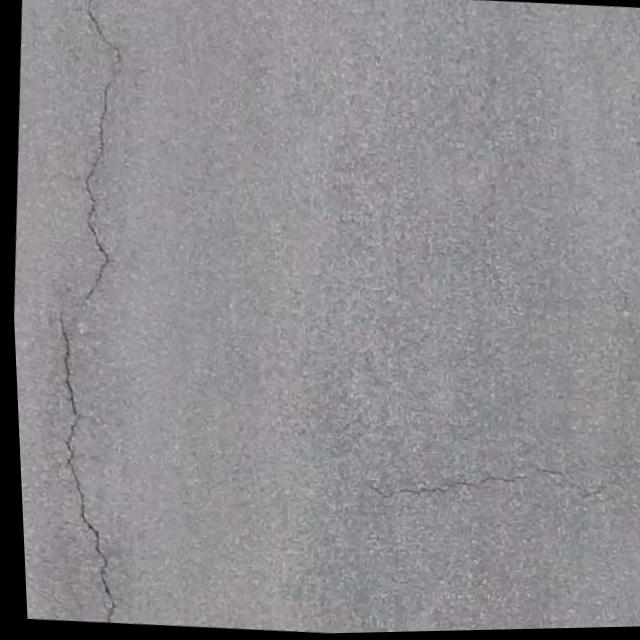Crack: (10, 0, 171, 625)
